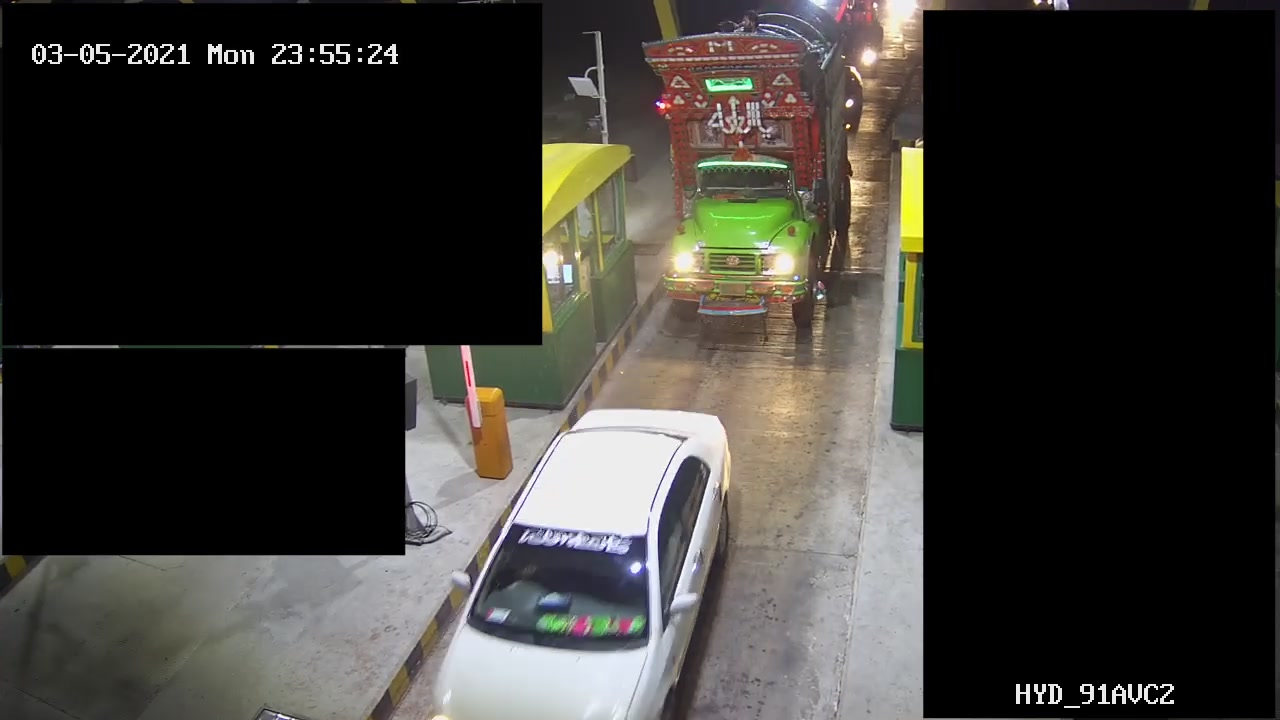F5: (636, 1, 852, 319)
